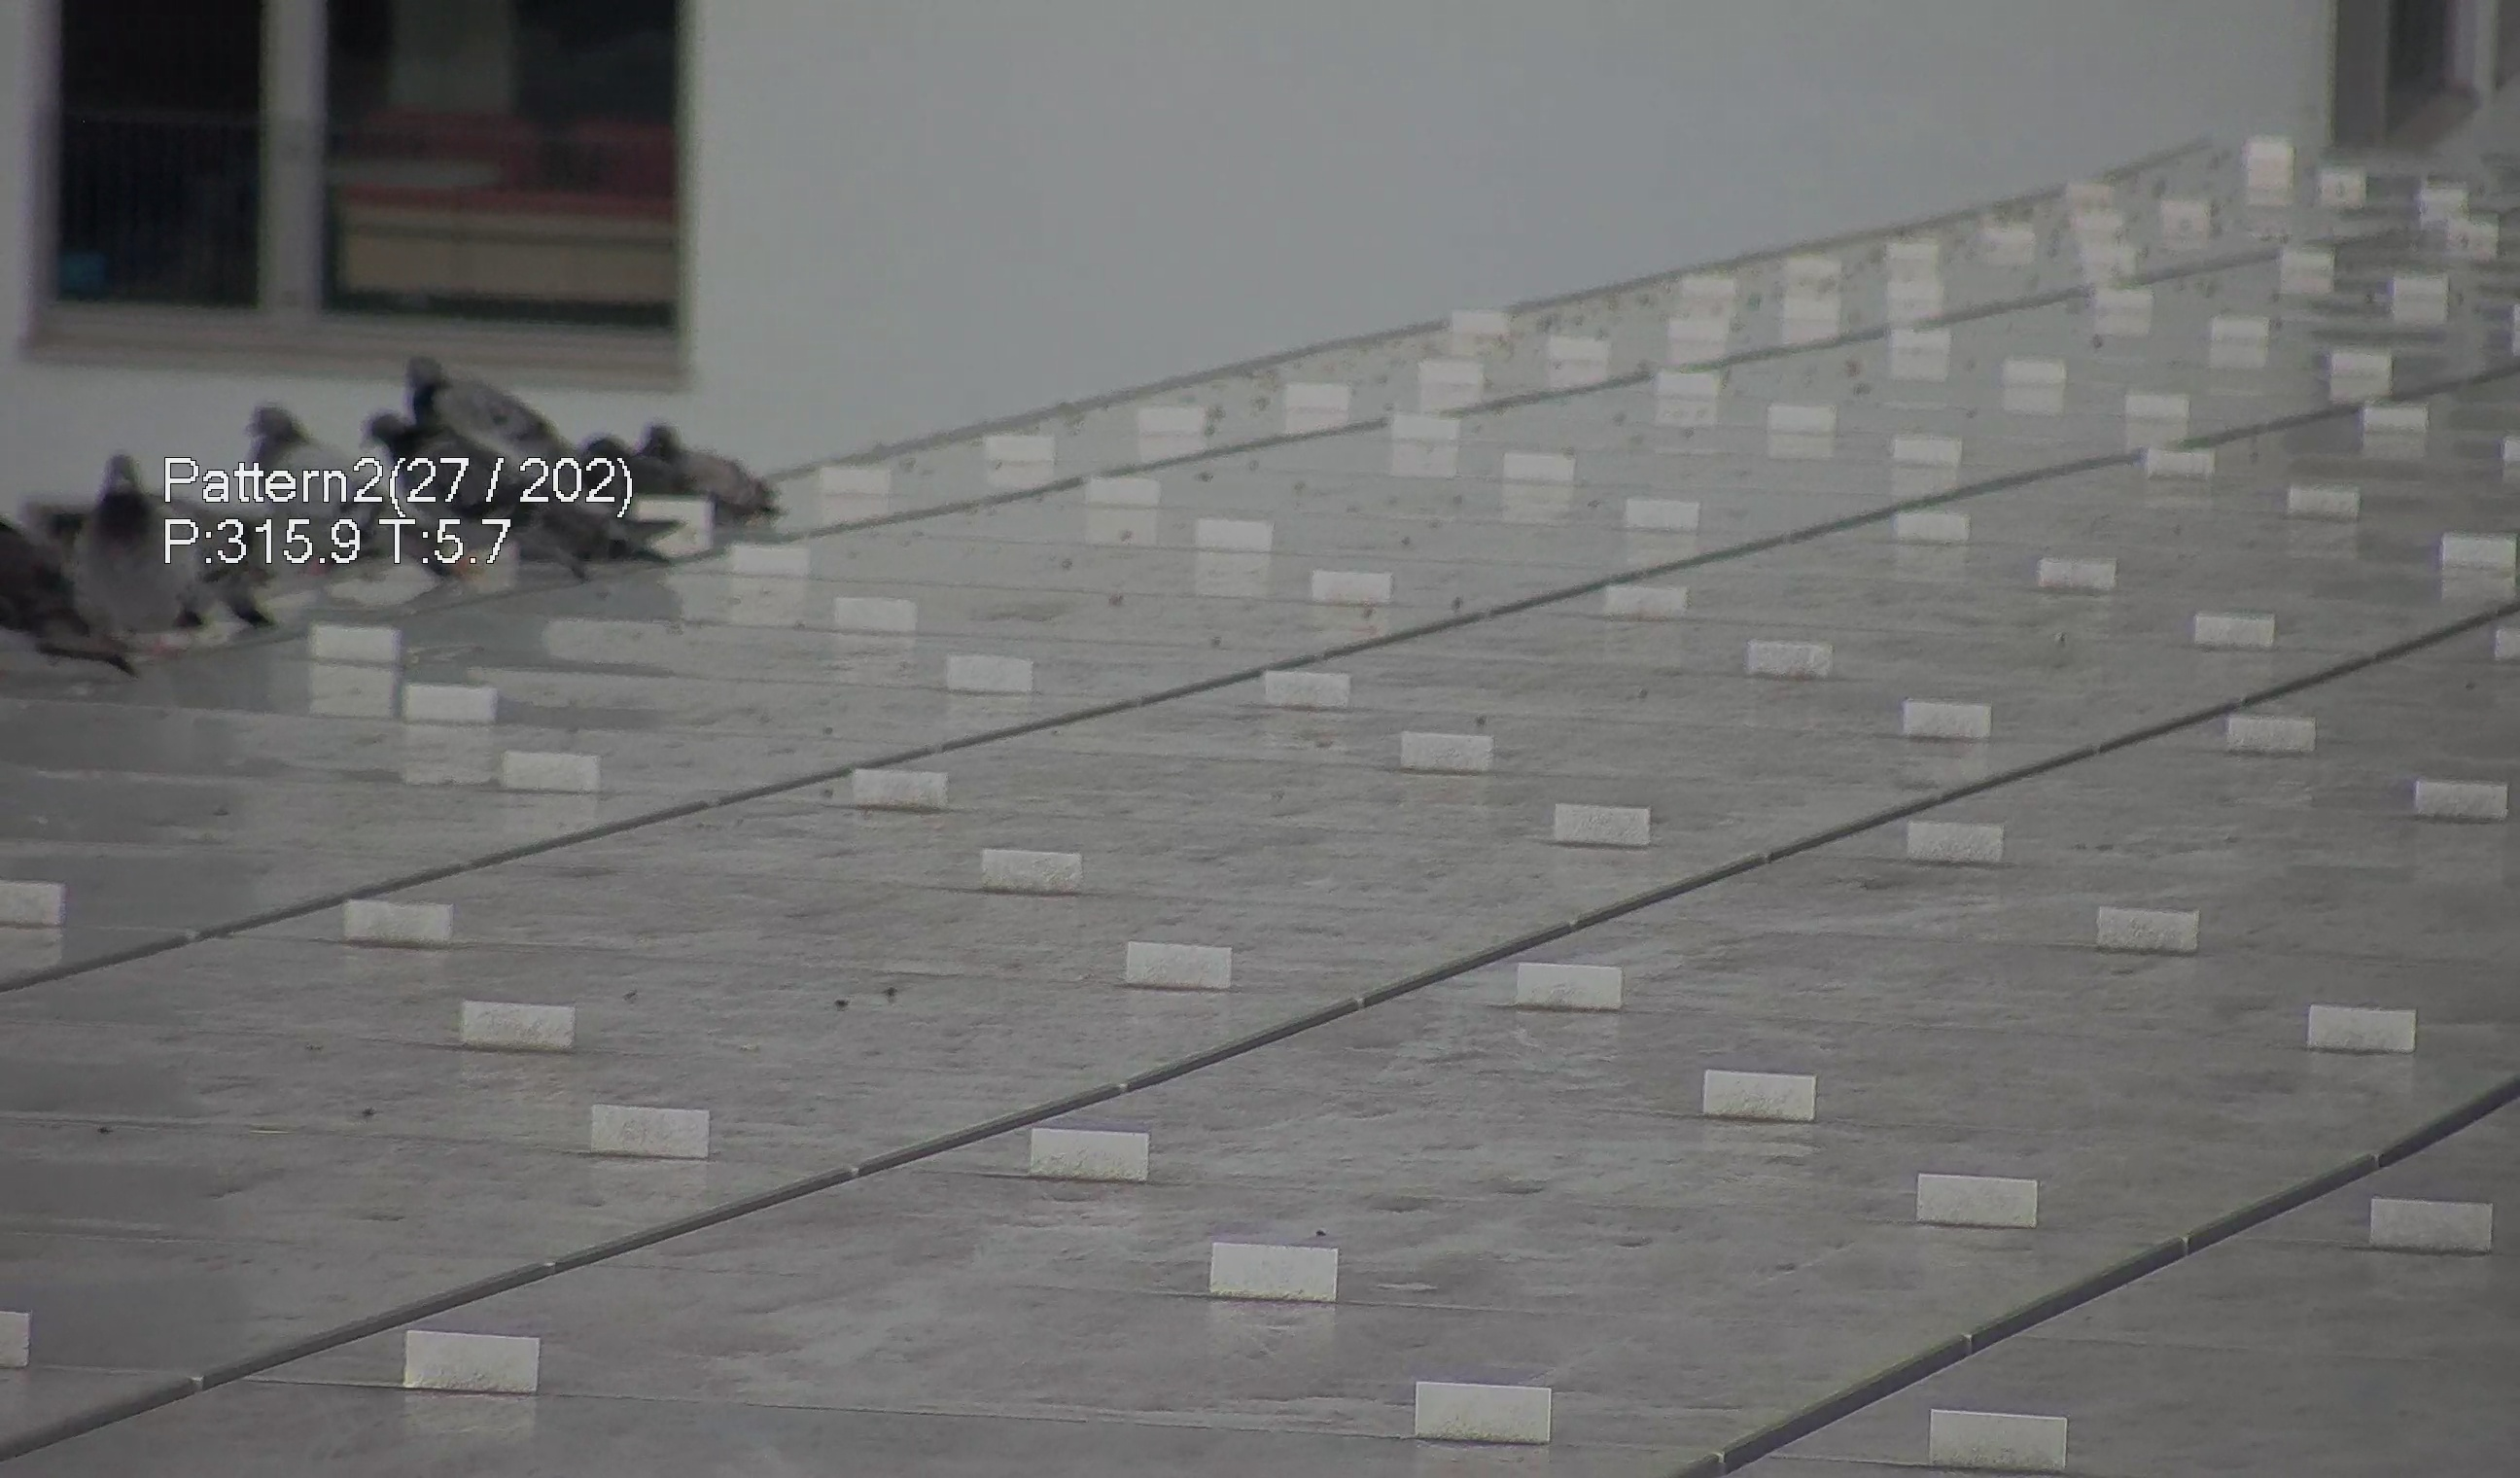Pigeon: (58, 442, 287, 669), (244, 410, 459, 582), (352, 340, 568, 461), (601, 396, 776, 528)
